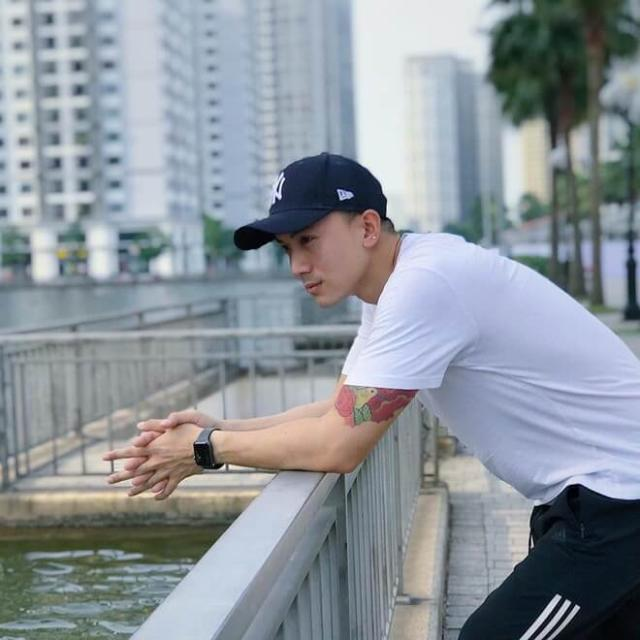Nonhelmet: (231, 148, 390, 308)
